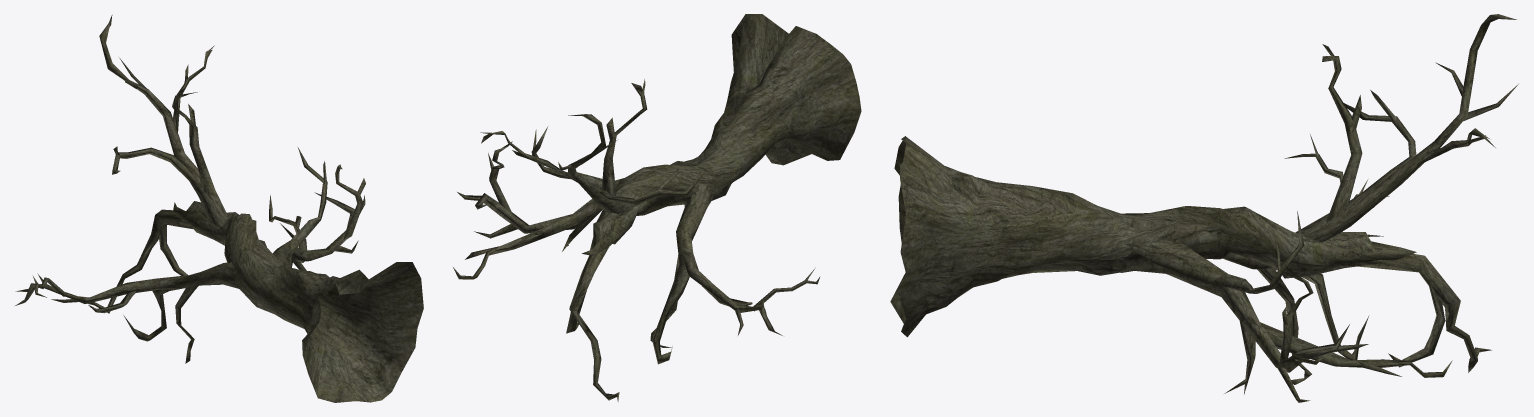
File: TI_Old_Tree_06_LOD_01.fbx
3 views of the same model, side by side, from view 1: azimuth 30°, elevation 25°; view 2: azimuth 150°, elevation 25°; view 3: azimuth 270°, elevation 25° (orthographic). The views are drawn at different scales.
Visible parts, largest first — view 1: TI_Old_Tree_06_LOD_01; view 2: TI_Old_Tree_06_LOD_01; view 3: TI_Old_Tree_06_LOD_01.
Boxes of the visible parts, bbox=[...] form: TI_Old_Tree_06_LOD_01: bbox=[15, 15, 423, 402]; TI_Old_Tree_06_LOD_01: bbox=[453, 14, 861, 401]; TI_Old_Tree_06_LOD_01: bbox=[890, 14, 1518, 402].
Bounding box in the file's own units: 9.11 × 7.26 × 11.2.
